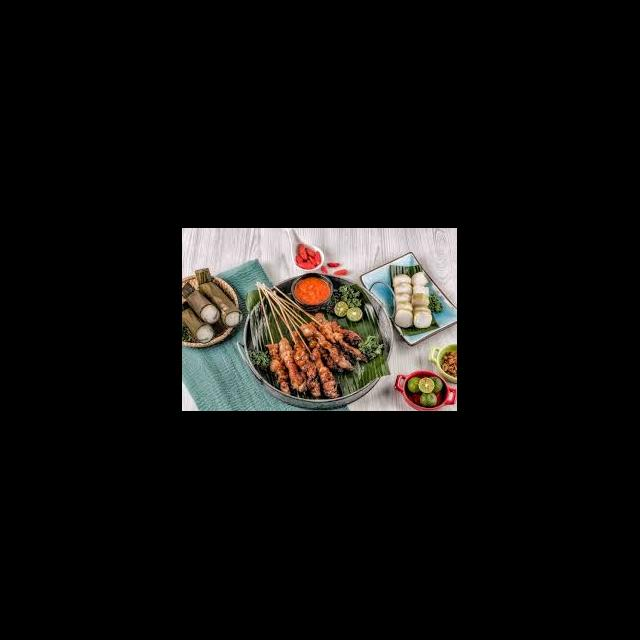food_waste: (281, 338, 352, 380)
